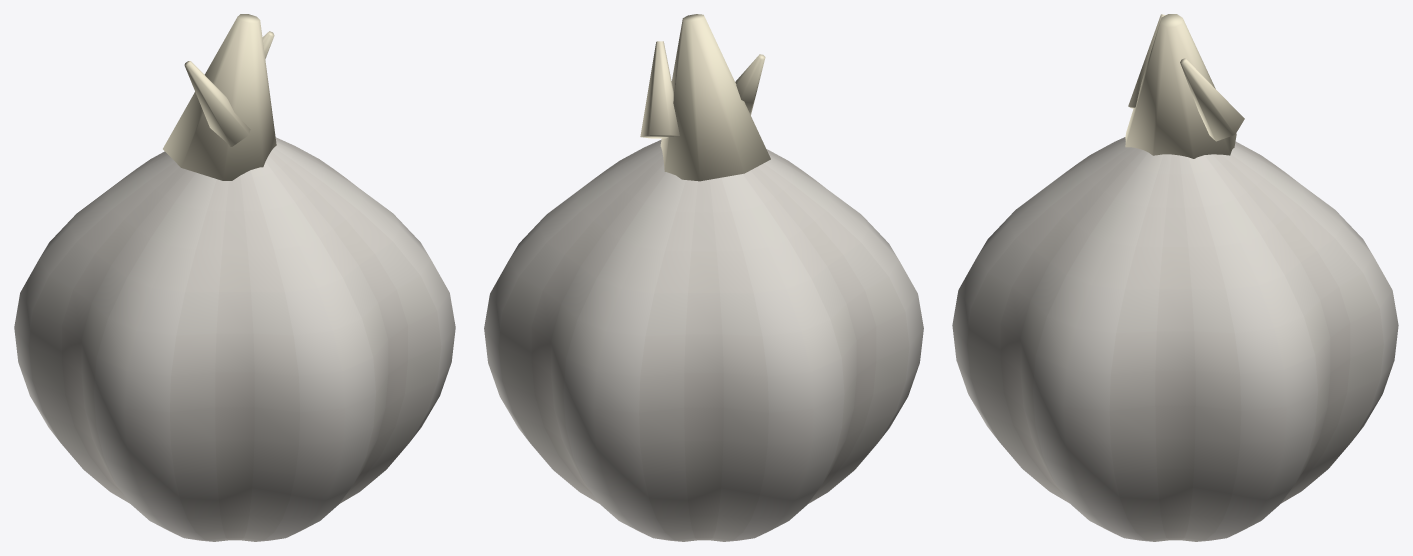
Rendered from Garlic.glb.
3 views of the same model, side by side, from view 1: azimuth 30°, elevation 25°; view 2: azimuth 150°, elevation 25°; view 3: azimuth 270°, elevation 25° (orthographic).
Parts seen in each view (by area): view 1: Garlic, GarlicTop; view 2: Garlic, GarlicTop; view 3: Garlic, GarlicTop.
Boxes of the visible parts, x1,y1,x2,y2 form: Garlic: [14, 137, 455, 541]; GarlicTop: [163, 14, 276, 180]; Garlic: [484, 139, 923, 541]; GarlicTop: [640, 14, 770, 181]; Garlic: [952, 137, 1398, 541]; GarlicTop: [1125, 14, 1244, 158].
Bounding box in the file's own units: 0.4179 × 0.5858 × 0.46.
